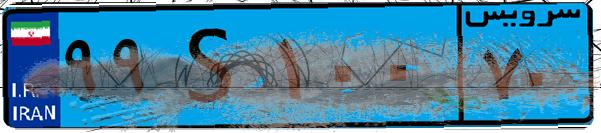0: (385, 28, 445, 110), (330, 28, 385, 110), (525, 38, 570, 115)
1: (270, 28, 330, 110)
7: (475, 38, 525, 113)
9: (57, 26, 110, 100), (110, 28, 158, 98)
S: (158, 12, 270, 120)
